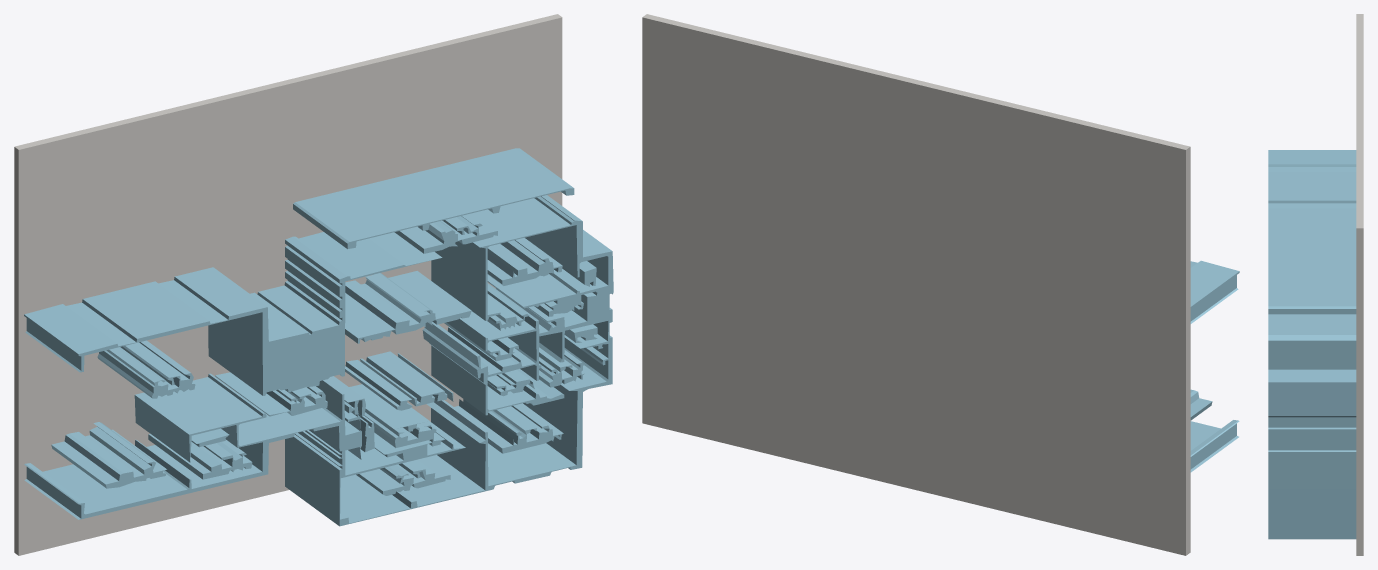
3 renders of one model, left to right at view 1: azimuth 30°, elevation 25°; view 2: azimuth 150°, elevation 25°; view 3: azimuth 270°, elevation 25°, orthographic. The views are drawn at different scales.
Visible parts, largest first — view 1: world; view 2: world; view 3: world.
Boxes of the visible parts, x1,y1,x2,y2 form: world: [14, 14, 613, 555]; world: [642, 14, 1239, 555]; world: [1268, 14, 1363, 555].
Bounding box in the file's own units: 10.23 × 7.3 × 1.93.
